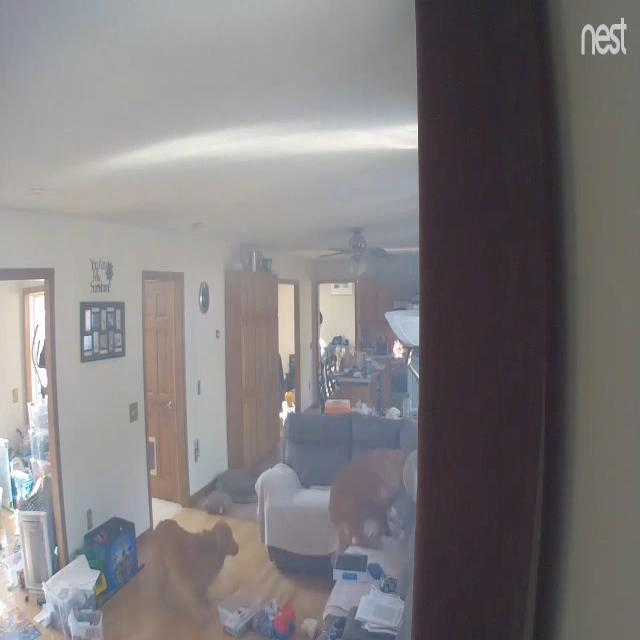fire: (393, 340, 404, 359)
